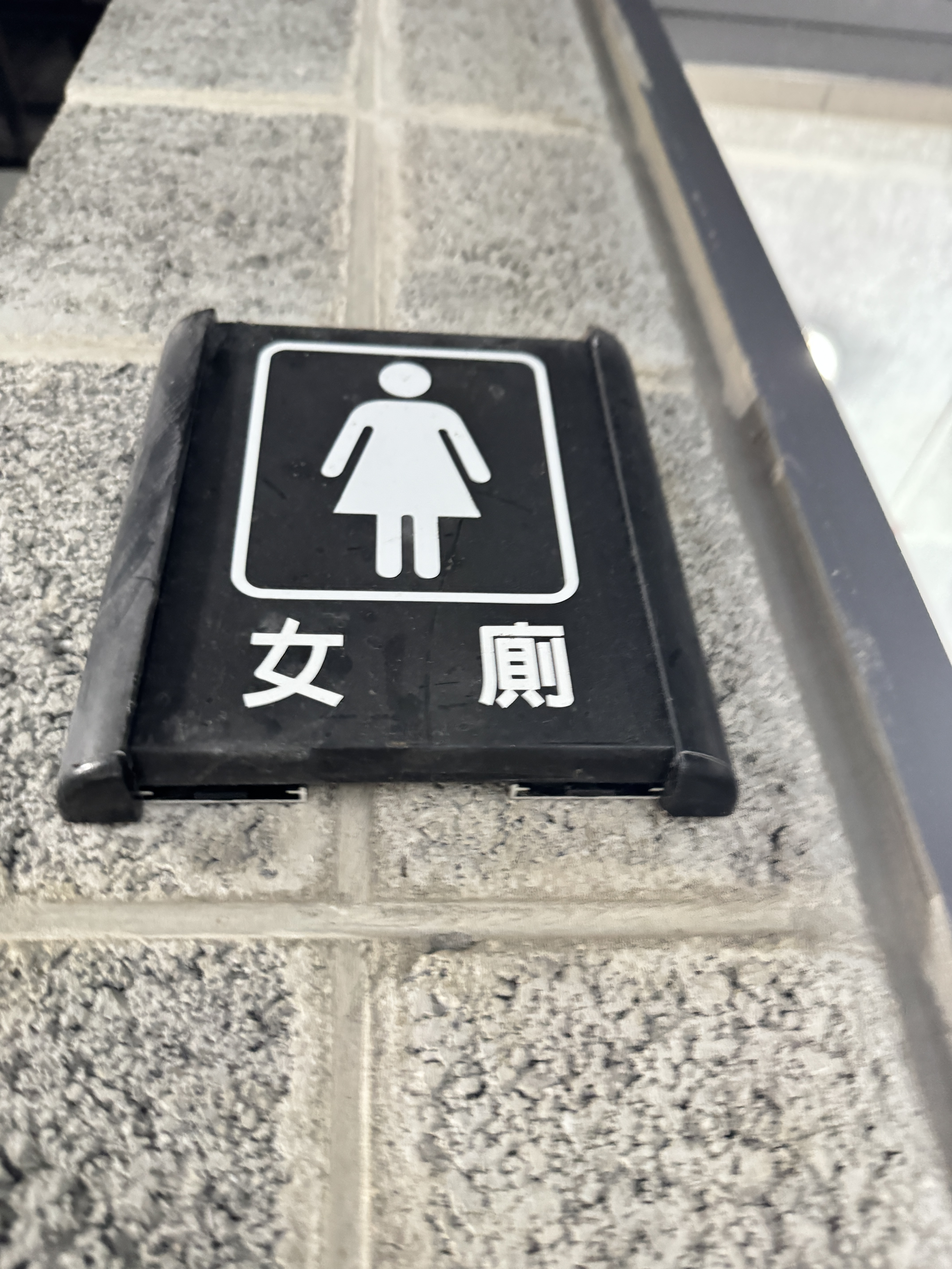toilet_sign: (50, 299, 746, 819)
